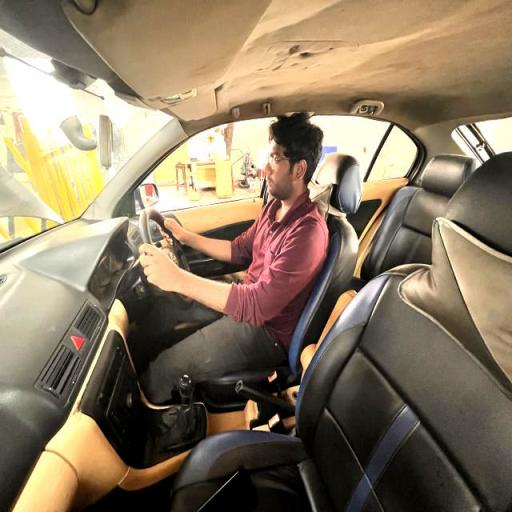Normal: (138, 114, 329, 402)
